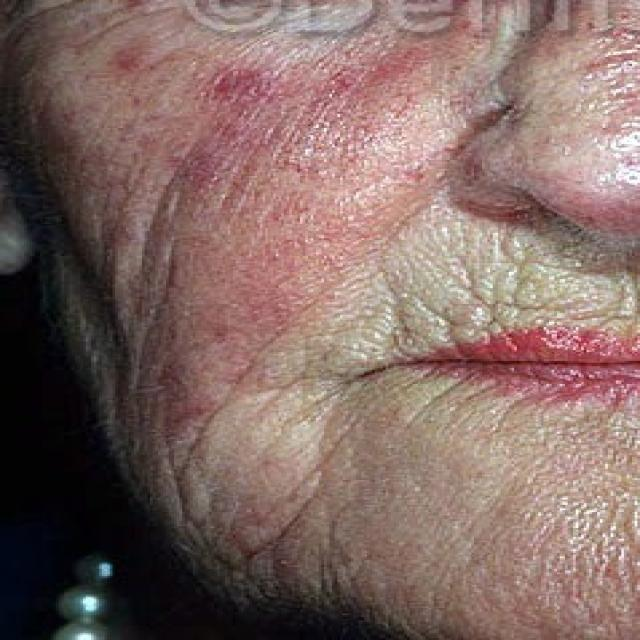Rosacea: (107, 44, 414, 175)
